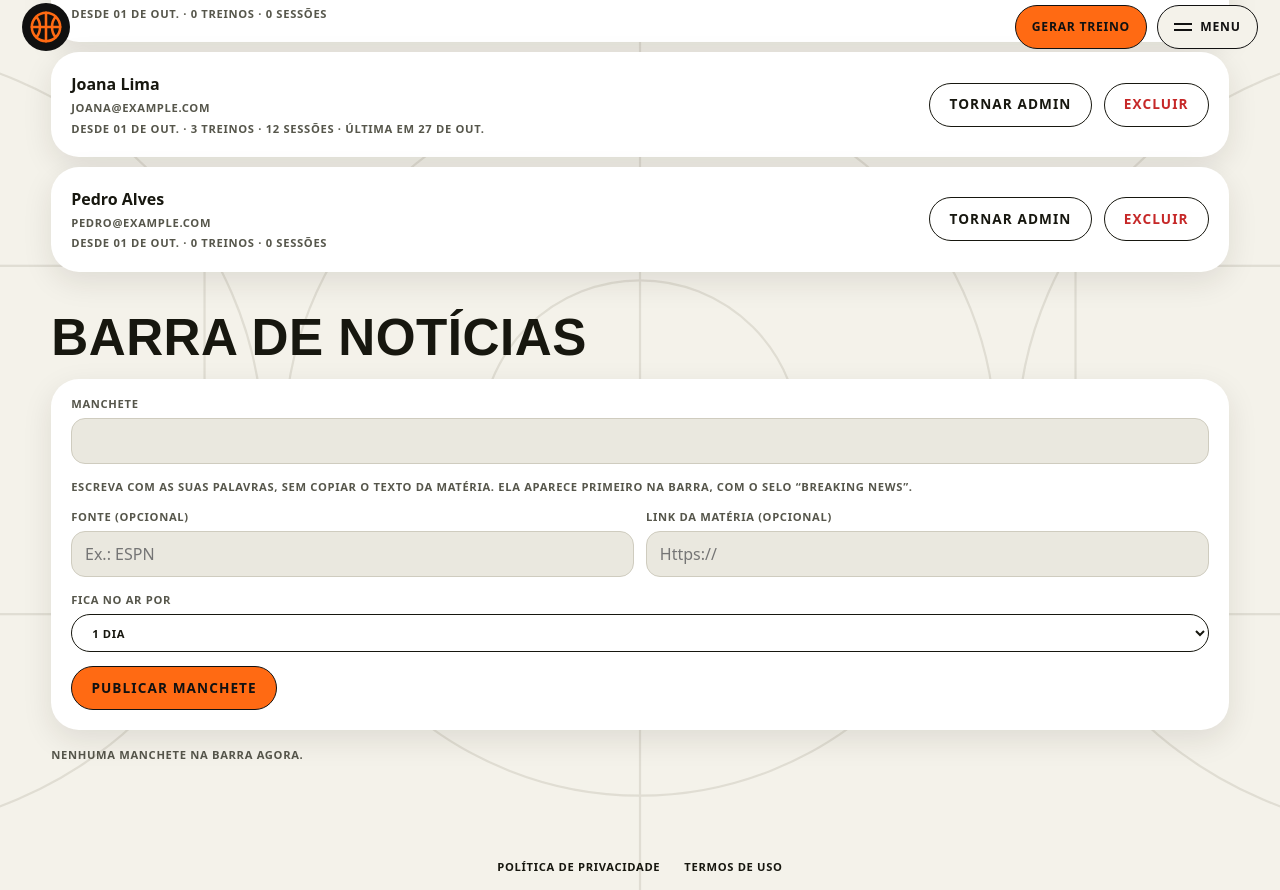
Test: Painel admin: barra de notícias › publica a manchete e ela aparece na lista e na barra na hora
(page scrolled)
Type "  LeBron muda de time  " into the field labelled "Manchete" at (640, 441), box [71,418,1209,464]
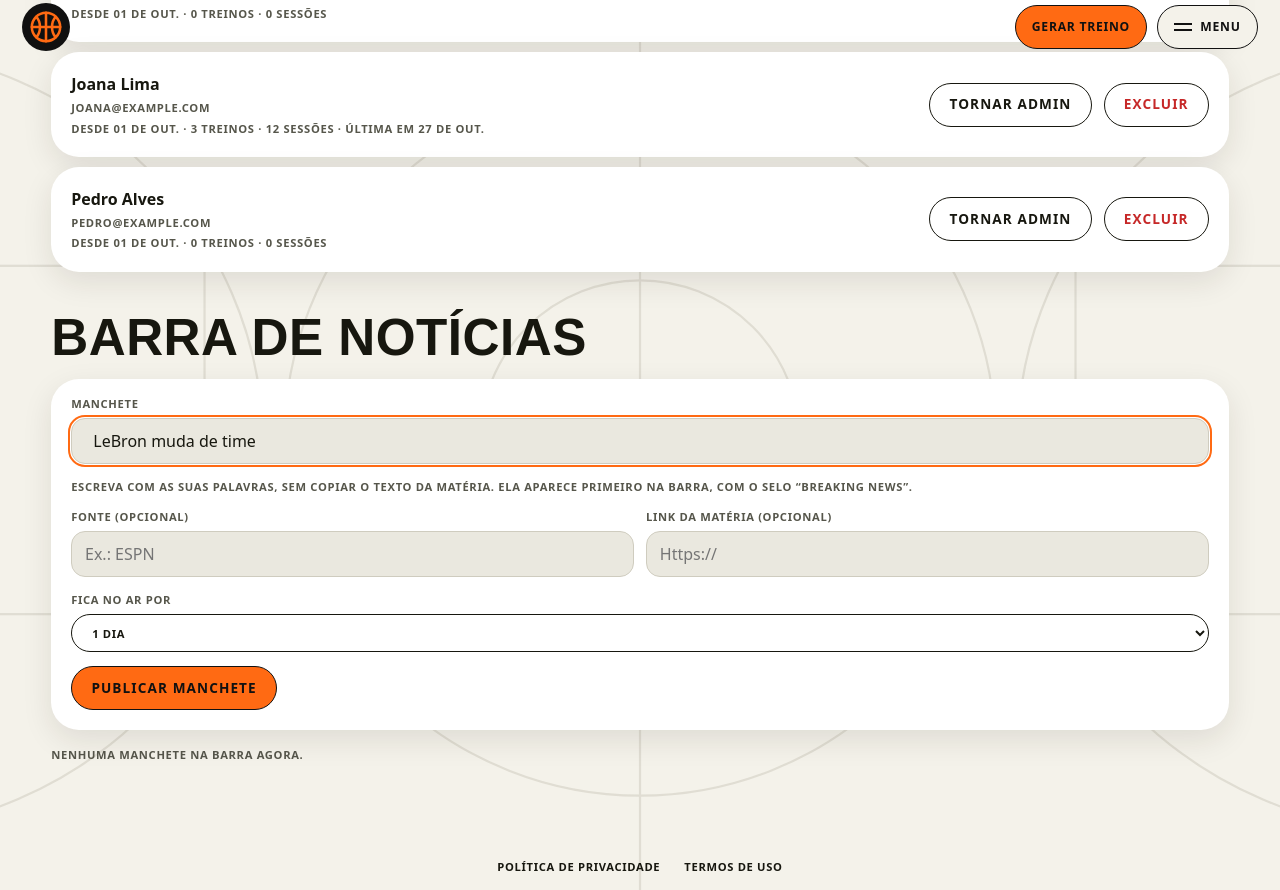
Type "ESPN" into the field labelled "Fonte (opcional)" at (353, 554), box [71,531,634,577]
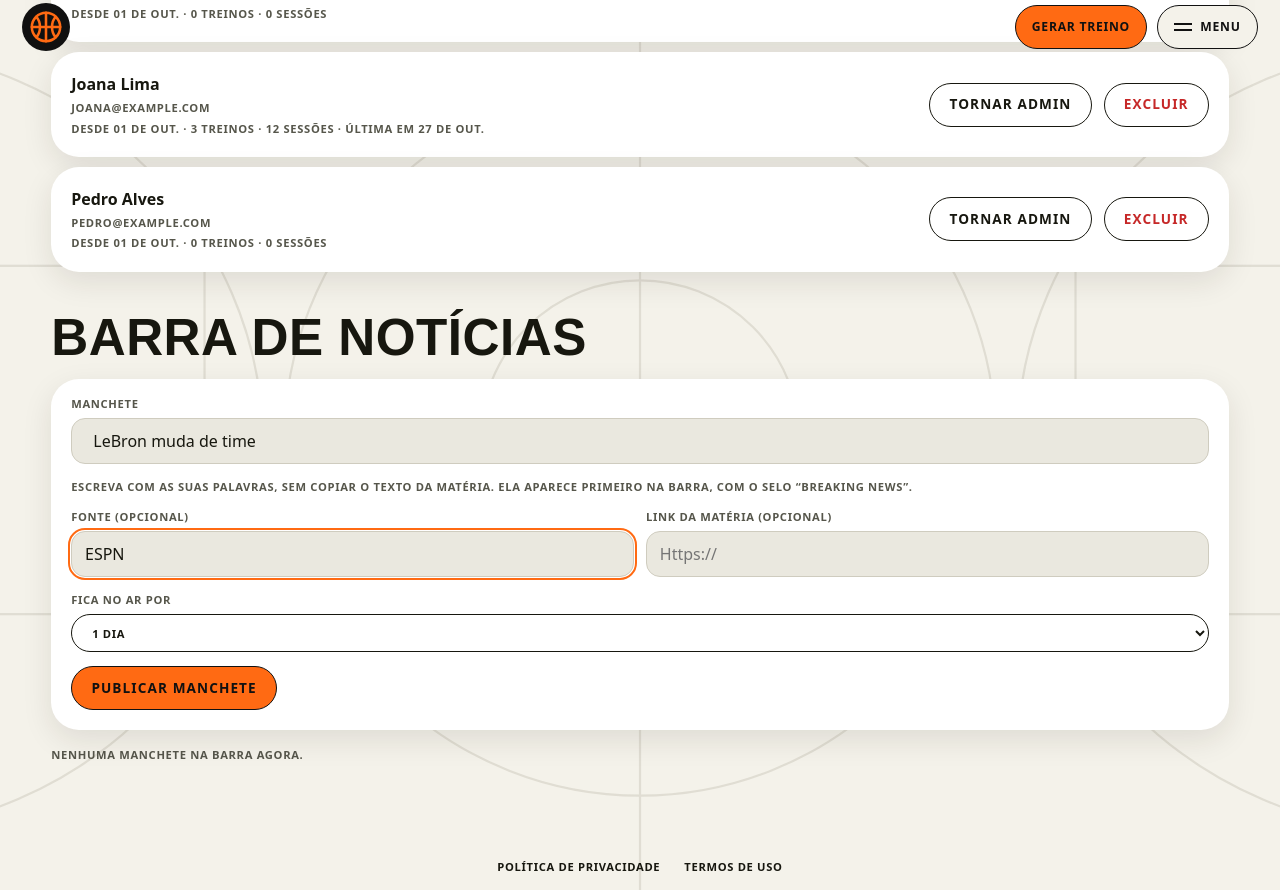
Type "https://espn.example/lebron" into the field labelled "Link da matéria (opcional)" at (927, 554), box [646,531,1209,577]
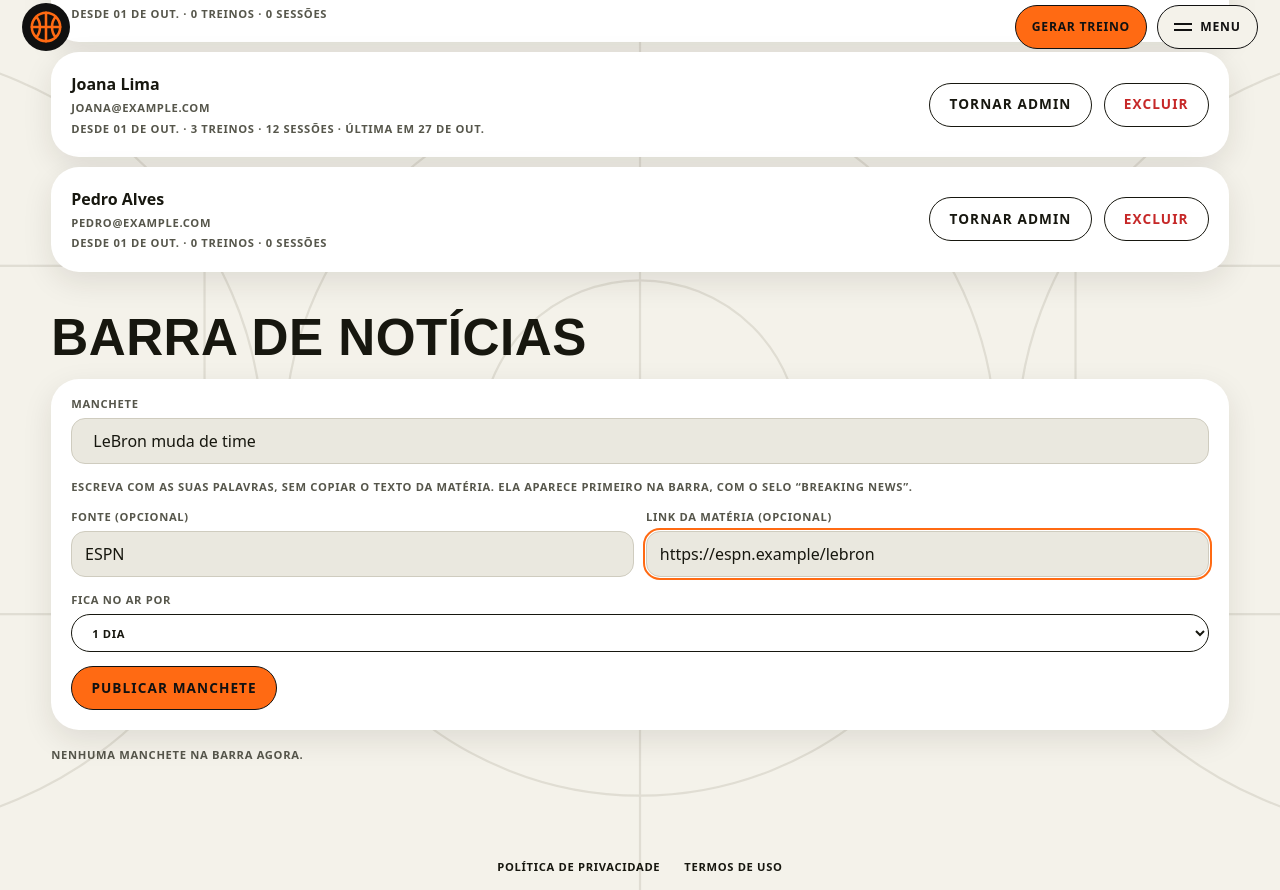
Select "6 horas" in the dropdown labelled "Fica no ar por" at (640, 633), box [71,614,1209,652]
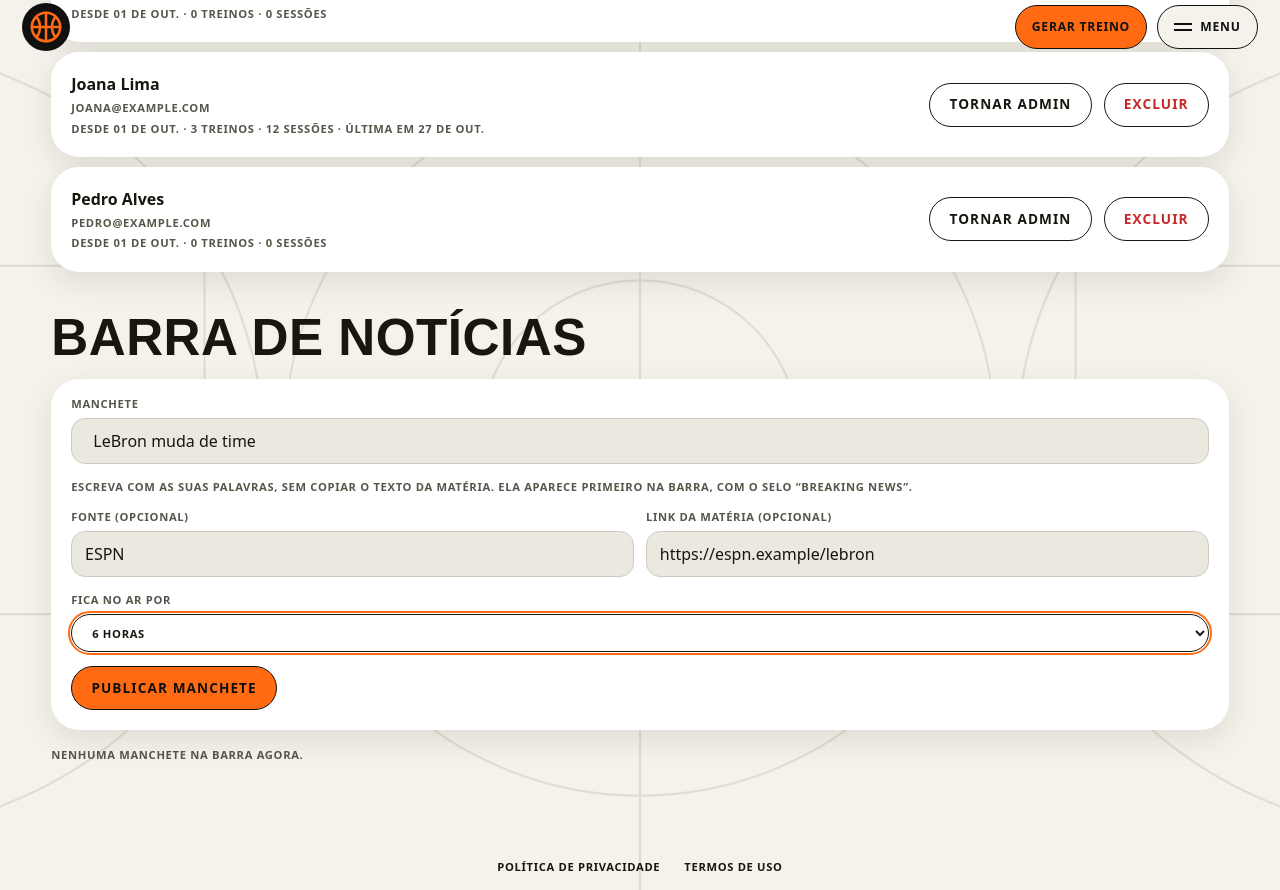
Click the button "Publicar manchete" at (174, 688), box [71,666,277,710]
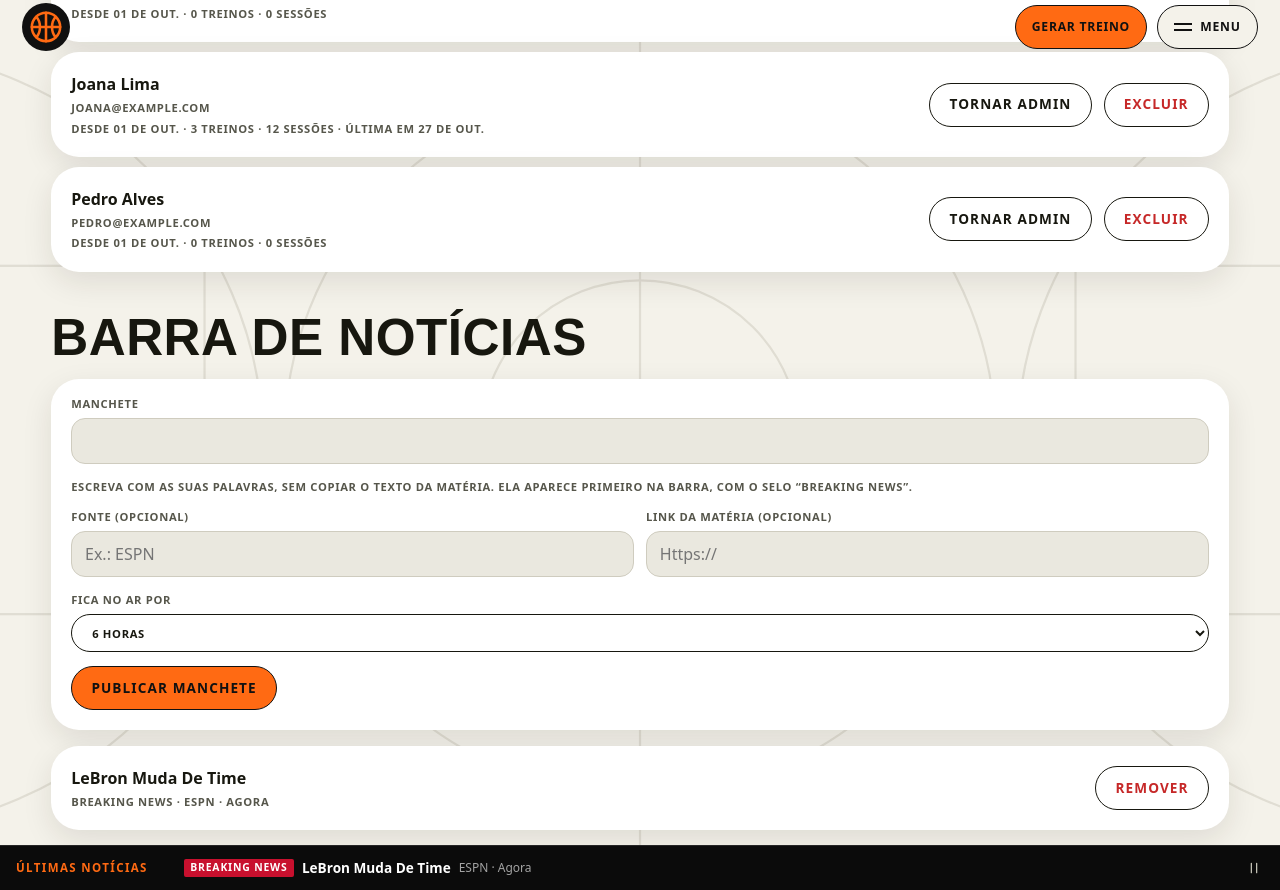
Expected: the text "Breaking news · ESPN · agora" is shown, [71,793,269,810]
Expected: the field labelled "Manchete" is empty, [71,418,1209,464]
Expected: the link "LeBron muda de time" is shown, [302,858,451,878]
